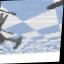drone: (0, 11, 24, 50)
